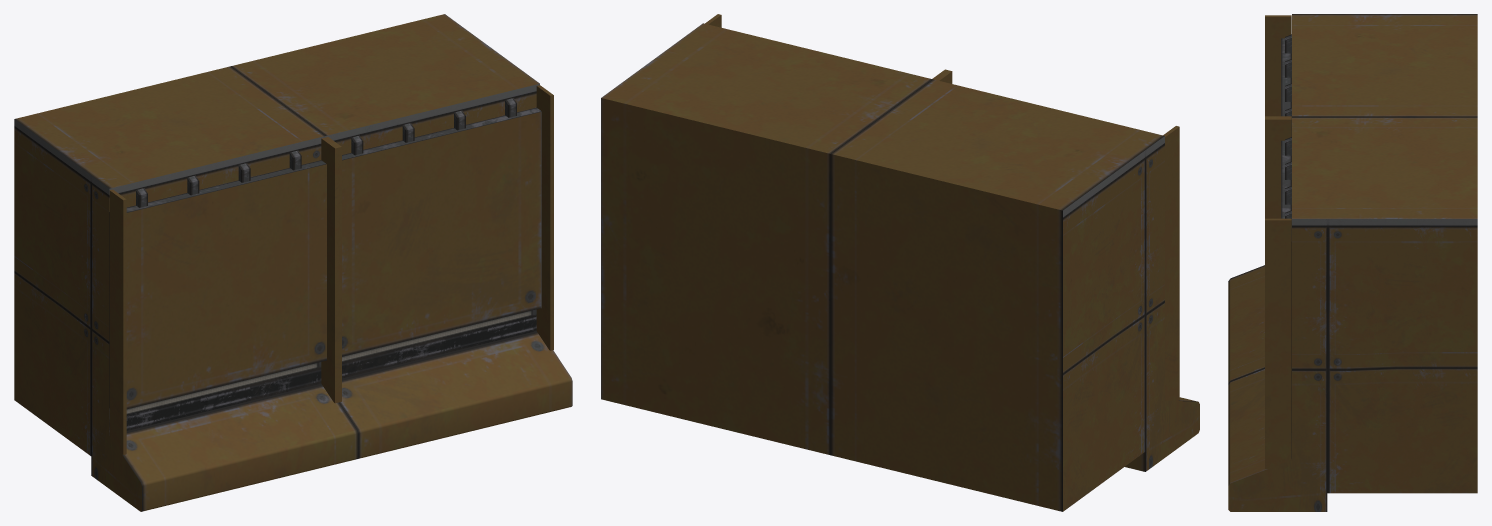
Rendered from Subway_Wall_el1.fbx.
3 renders of one model, left to right at view 1: azimuth 30°, elevation 25°; view 2: azimuth 150°, elevation 25°; view 3: azimuth 270°, elevation 25°, orthographic. The views are drawn at different scales.
Visible parts, largest first — view 1: polySurface332; view 2: polySurface332; view 3: polySurface332.
Boxes of the visible parts, x1,y1,x2,y2 form: polySurface332: (14,14,572,511); polySurface332: (601,14,1199,511); polySurface332: (1228,14,1477,511).
Size of the model in its own units: 200 by 133 by 103.
